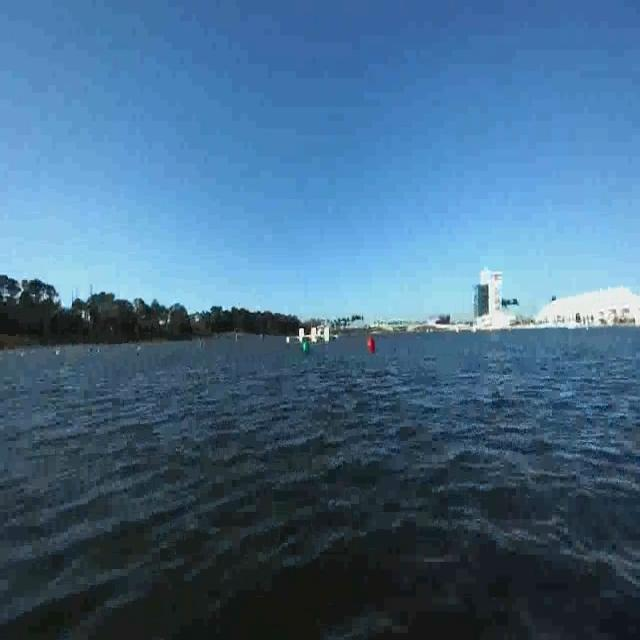green-buoy: (301, 338, 309, 353)
red-column-buoy: (366, 336, 375, 356)
